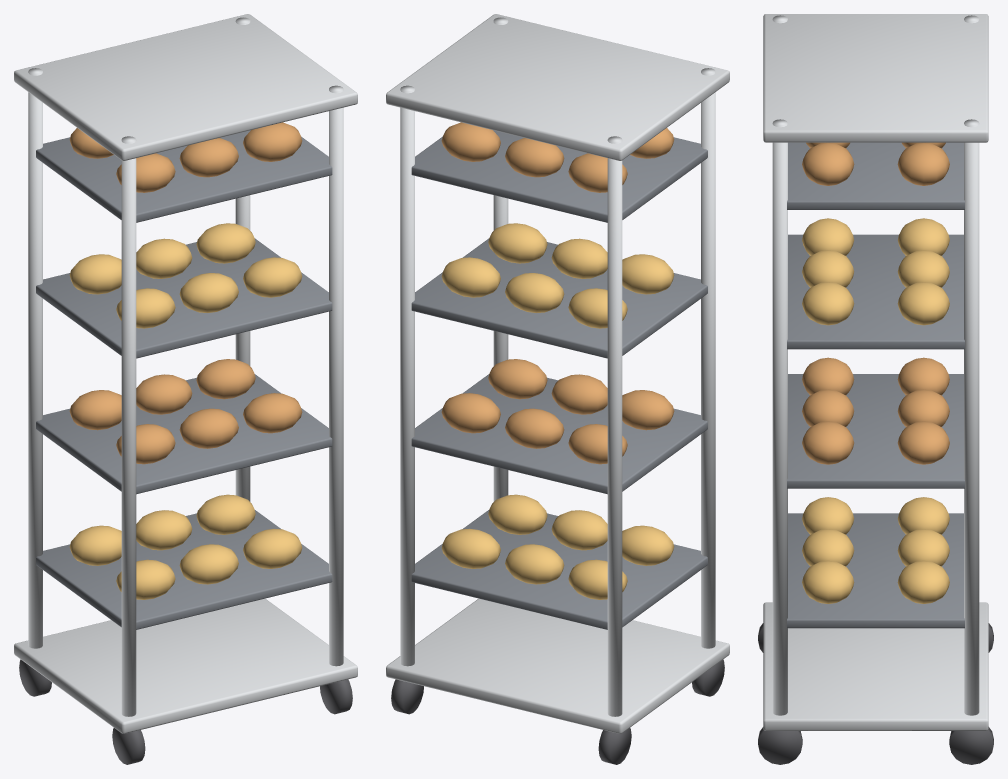
Rendered from obs_delivery_cart.glb.
3 renders of one model, left to right at view 1: azimuth 30°, elevation 25°; view 2: azimuth 150°, elevation 25°; view 3: azimuth 270°, elevation 25°, orthographic. The views are drawn at different scales.
Visible parts, largest first — view 1: TopFrame, BottomFrame, Tray_2, Tray_0, Tray_1, Tray_3, Pole, Pole.002, Pole.001, 球.002, 球.005, 球.017 (+23 smaller); view 2: TopFrame, BottomFrame, Tray_2, Tray_0, Tray_1, Tray_3, Pole.001, Pole.003, Pole, 球.003, 球.004, 球.016 (+23 smaller); view 3: TopFrame, BottomFrame, Tray_0, Tray_2, Tray_1, Pole.002, Pole.003, Tray_3, 球.016, 球.017, 球.004, 球.005 (+18 smaller).
Boxes of the visible parts, x1,y1,x2,y2 form: TopFrame: (14,14,357,160); BottomFrame: (14,598,357,733); Tray_2: (36,238,332,358); Tray_0: (36,510,332,629); Tray_1: (36,374,332,494); Tray_3: (36,130,332,222); Pole: (121,136,136,716); Pole.002: (329,85,343,666); Pole.001: (28,68,42,648); 球.002: (179,544,238,584); 球.005: (196,494,255,534); 球.017: (196,223,255,263); TopFrame: (386,14,729,160); BottomFrame: (386,598,729,733); Tray_2: (411,238,707,358); Tray_0: (411,510,707,629); Tray_1: (411,374,707,494); Tray_3: (411,130,707,222); Pole.001: (607,136,622,716); Pole.003: (400,85,414,666); Pole: (701,68,715,648); 球.003: (505,544,564,584); 球.004: (488,494,547,534); 球.016: (488,223,547,263); TopFrame: (763,14,988,142); BottomFrame: (763,602,988,730); Tray_0: (787,513,964,628); Tray_2: (787,234,964,349); Tray_1: (787,374,964,488); Pole.002: (772,119,787,715); Pole.003: (964,119,979,715); Tray_3: (787,142,964,209); 球.016: (802,282,854,325); 球.017: (897,282,949,325); 球.004: (802,560,854,603); 球.005: (897,560,949,603).
Size of the model in its own units: 0.82 by 2.07 by 0.69.
